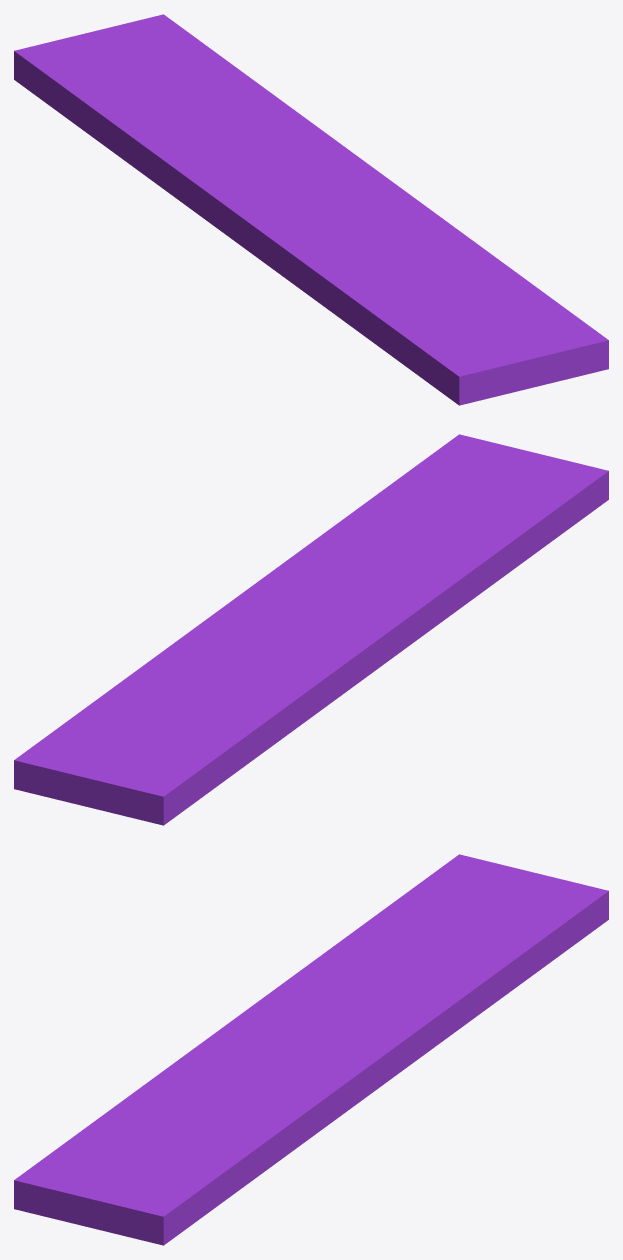
The model's file is StairsStep_85_chunks.fbx.
The picture shows the model from 3 angles, top to bottom: view 1: azimuth 30°, elevation 25°; view 2: azimuth 150°, elevation 25°; view 3: azimuth 330°, elevation 25°; orthographic projection.
Parts seen in each view (by area): view 1: StairsStep_85_0, StairsStep_85_2, StairsStep_85_1, StairsStep_85_3; view 2: StairsStep_85_0, StairsStep_85_2, StairsStep_85_1, StairsStep_85_3; view 3: StairsStep_85_0, StairsStep_85_2, StairsStep_85_1, StairsStep_85_3.
Part boxes in pixels (box(x1,y1,x2,y2)): StairsStep_85_0: box(14, 14, 342, 229); StairsStep_85_2: box(215, 194, 556, 405); StairsStep_85_1: box(351, 199, 608, 385); StairsStep_85_3: box(297, 145, 416, 213); StairsStep_85_0: box(14, 621, 368, 825); StairsStep_85_2: box(316, 447, 608, 674); StairsStep_85_1: box(267, 434, 510, 591); StairsStep_85_3: box(194, 575, 328, 628); StairsStep_85_0: box(258, 854, 608, 1063); StairsStep_85_2: box(14, 1001, 306, 1228); StairsStep_85_1: box(94, 1059, 411, 1245); StairsStep_85_3: box(294, 1022, 429, 1075).
Size of the model in its own units: 157 by 28.98 by 810.
